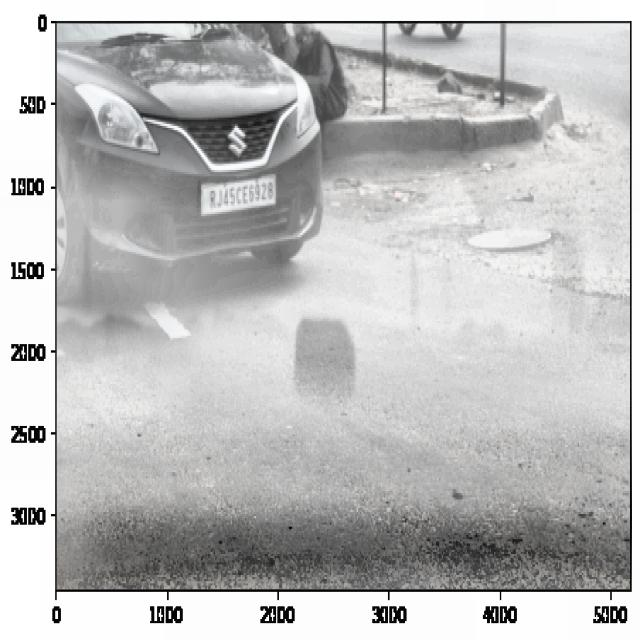license_plate: (203, 175, 280, 215)
